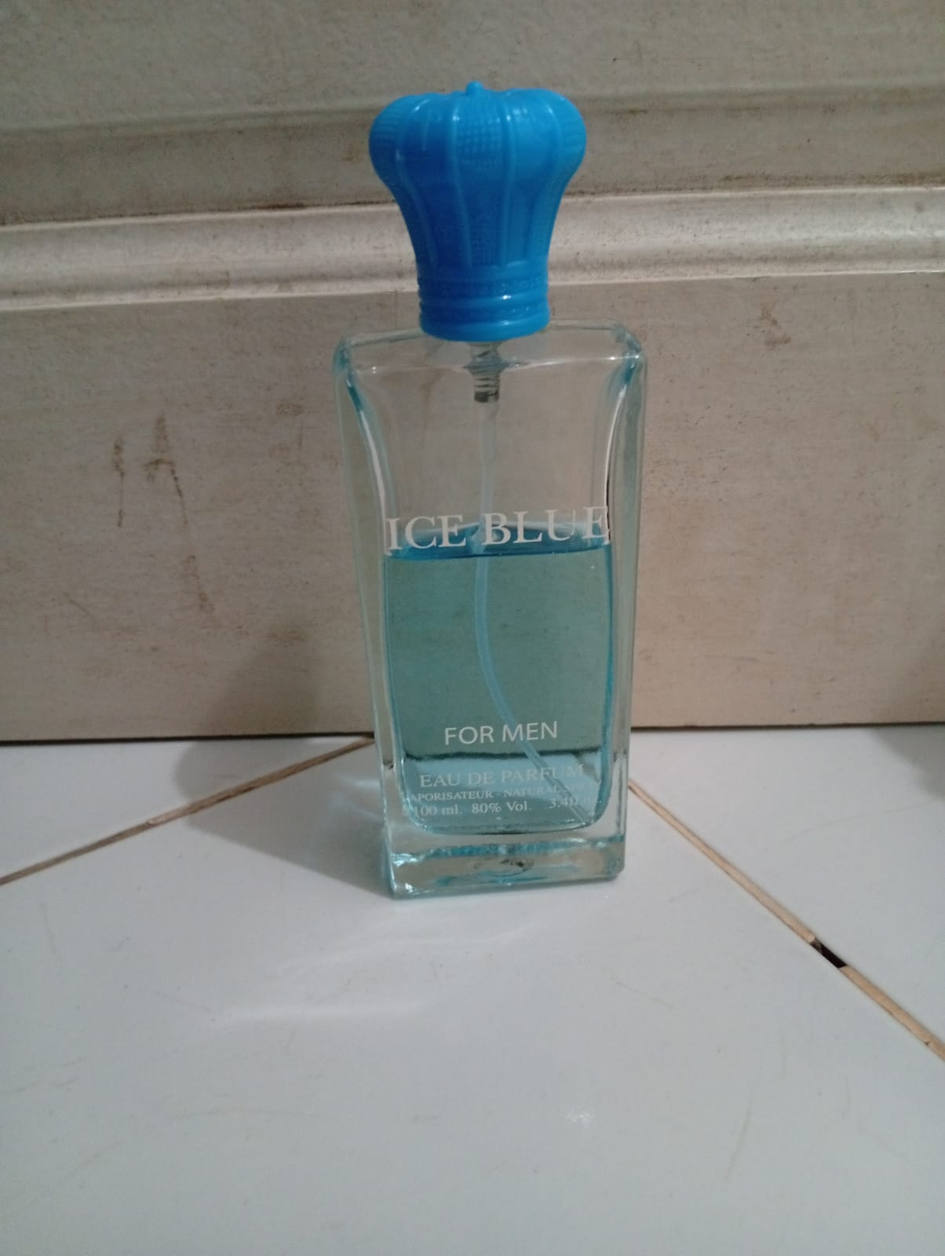Parfum: (276, 68, 699, 918)
